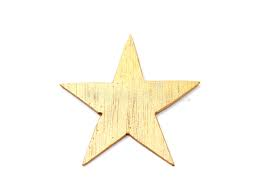star: (56, 31, 202, 165)
